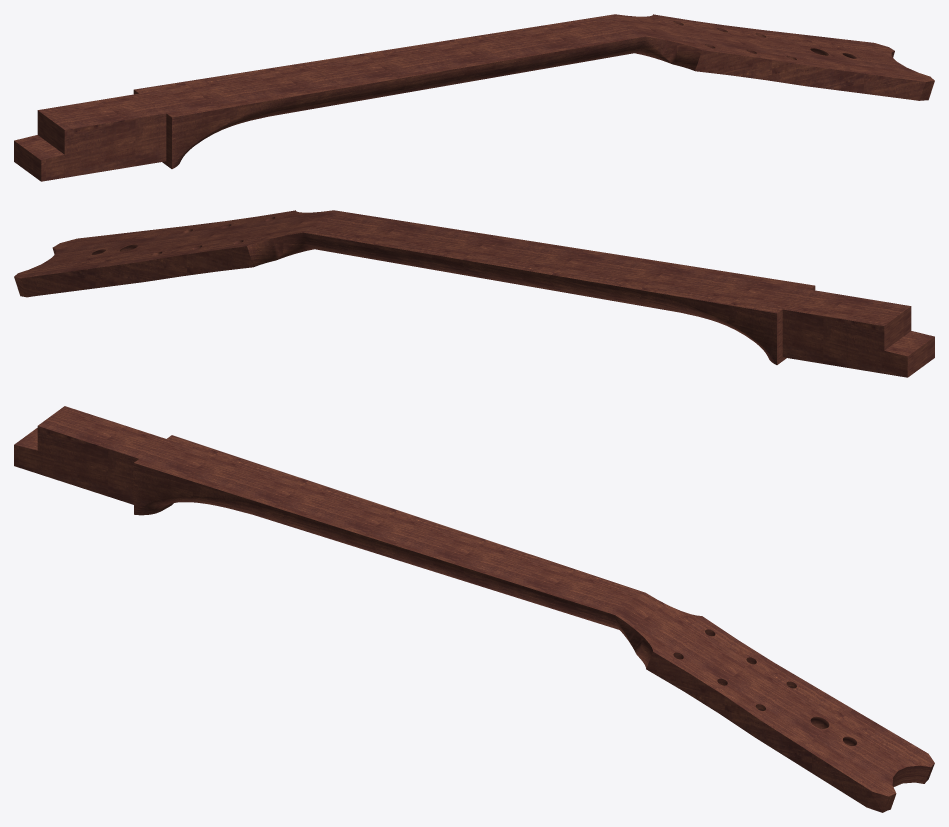
Rendered from neck-1.obj.
3 views of the same model, one above another, from view 1: azimuth 30°, elevation 25°; view 2: azimuth 150°, elevation 25°; view 3: azimuth 330°, elevation 25° (orthographic).
Parts seen in each view (by area): view 1: neck_1; view 2: neck_1; view 3: neck_1.
Boxes of the visible parts, x1,y1,x2,y2 form: neck_1: (14, 14, 934, 181); neck_1: (14, 210, 934, 377); neck_1: (14, 406, 934, 812).
Bounding box in the file's own units: 717 × 133 × 75.6.
